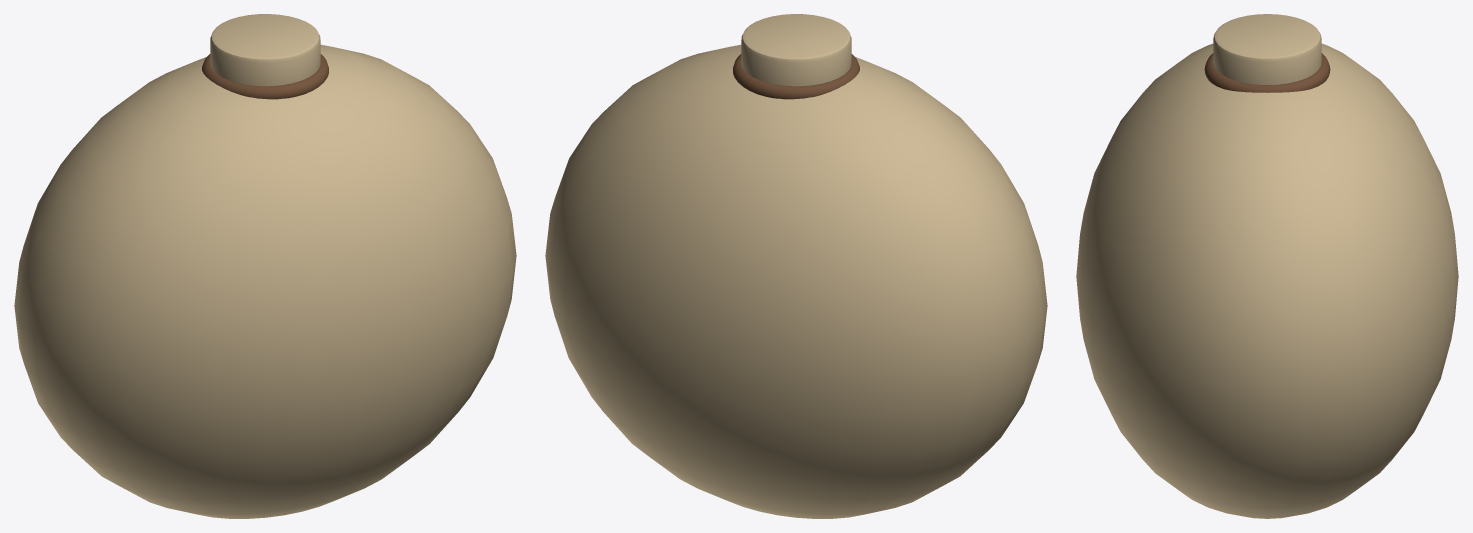
File: sack.glb
3 renders of one model, left to right at view 1: azimuth 30°, elevation 25°; view 2: azimuth 150°, elevation 25°; view 3: azimuth 270°, elevation 25°, orthographic.
Visible parts, largest first — view 1: sack, tie, rope; view 2: sack, tie, rope; view 3: sack, tie, rope.
Boxes of the visible parts, bbox=[...] form: sack: bbox=[14, 44, 516, 518]; tie: bbox=[210, 14, 320, 86]; rope: bbox=[202, 54, 328, 99]; sack: bbox=[545, 44, 1047, 518]; tie: bbox=[741, 14, 851, 86]; rope: bbox=[733, 54, 859, 99]; sack: bbox=[1076, 43, 1458, 518]; tie: bbox=[1213, 14, 1321, 84]; rope: bbox=[1204, 53, 1330, 92].
Bounding box in the file's own units: 0.484 × 0.465 × 0.352.
